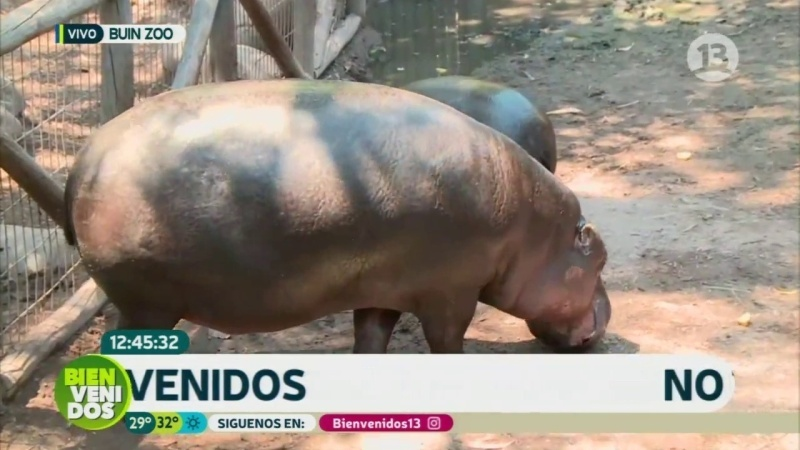hipopotamo: (68, 77, 637, 353)
